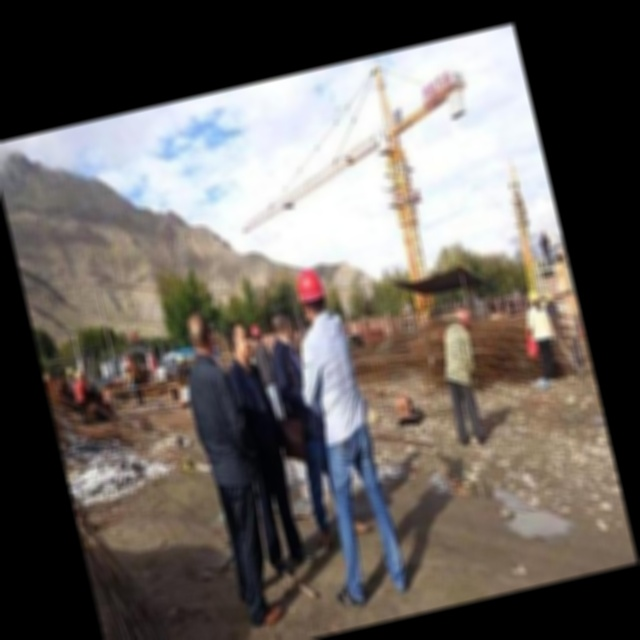Con_Casco: (293, 268, 329, 317)
Sin_Casco_Mascarrilla: (182, 307, 217, 357)
Sin_Chaleco: (296, 310, 367, 437)
